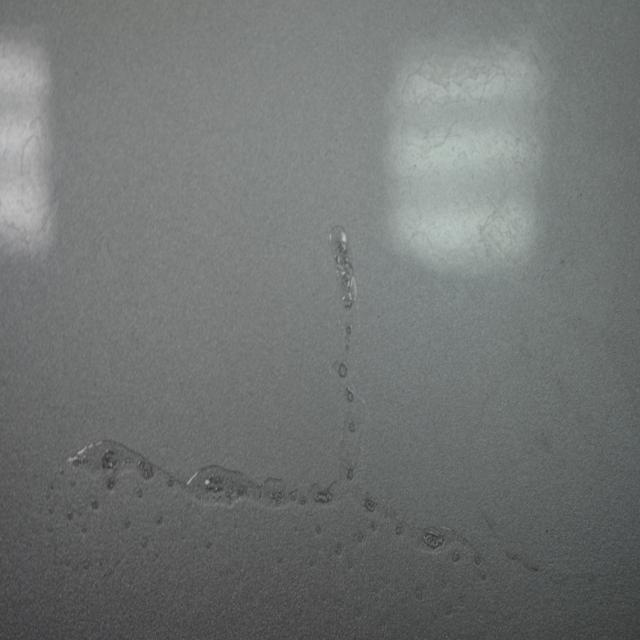runs: (40, 226, 530, 630)
water marks: (388, 173, 536, 281), (0, 100, 72, 279), (385, 60, 506, 164)
